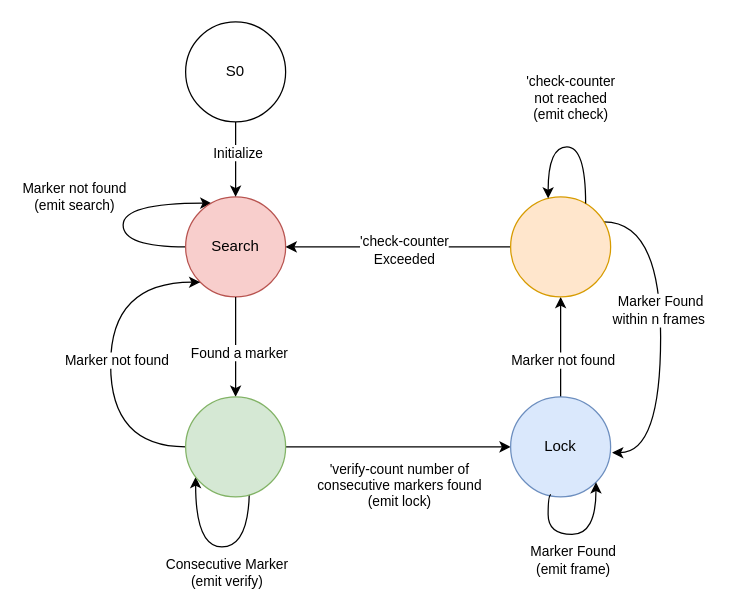
Some shapes in this 730 by 610 pixel diagram are drawn without their labels. The centre of each missing label's shape, as x and y in pixels:
"Check" goes at [560,246].
"Verify" goes at [235,446].
